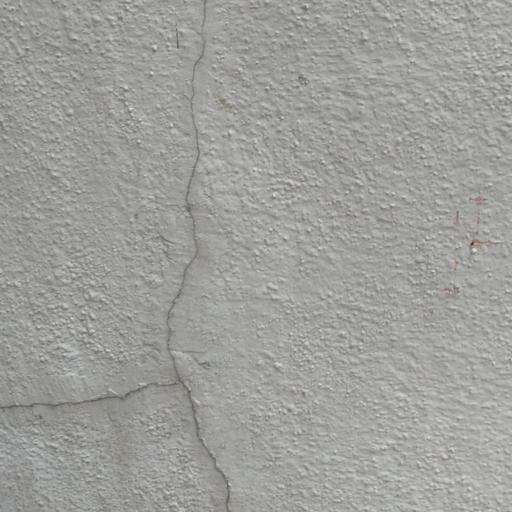minor_crack: (152, 0, 242, 512), (0, 371, 181, 417)
